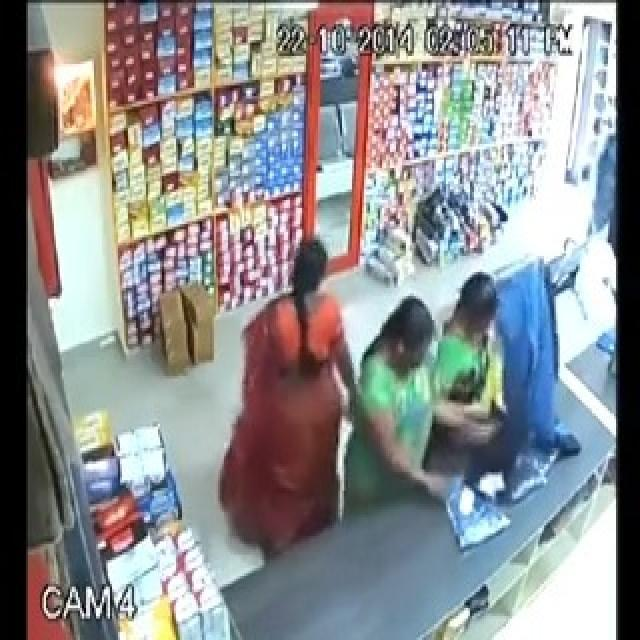normal: (215, 225, 364, 590), (346, 291, 508, 571), (447, 238, 590, 496)
